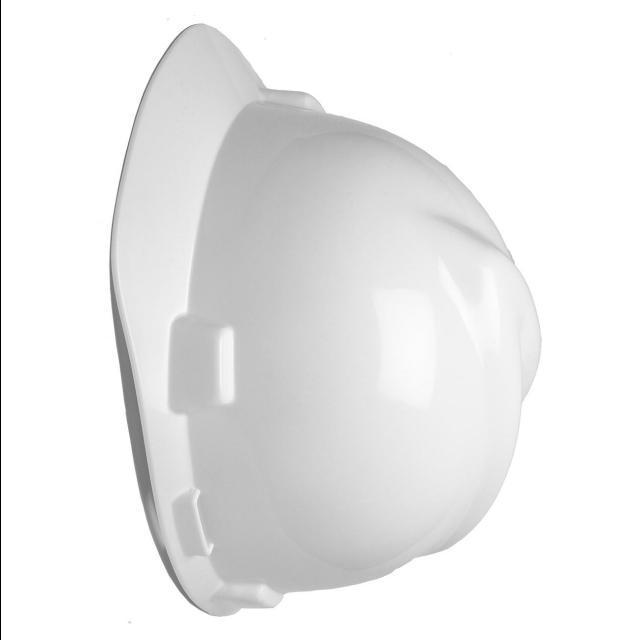safety_helmet: (105, 22, 542, 619)
